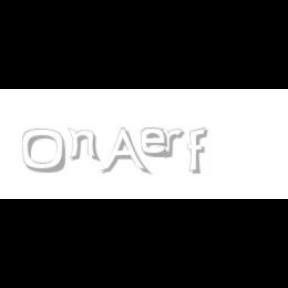A: (100, 128, 148, 176)
O: (22, 128, 66, 174)
e: (140, 128, 173, 158)
f: (187, 128, 211, 174)
n: (67, 128, 101, 162)
r: (160, 128, 188, 158)
